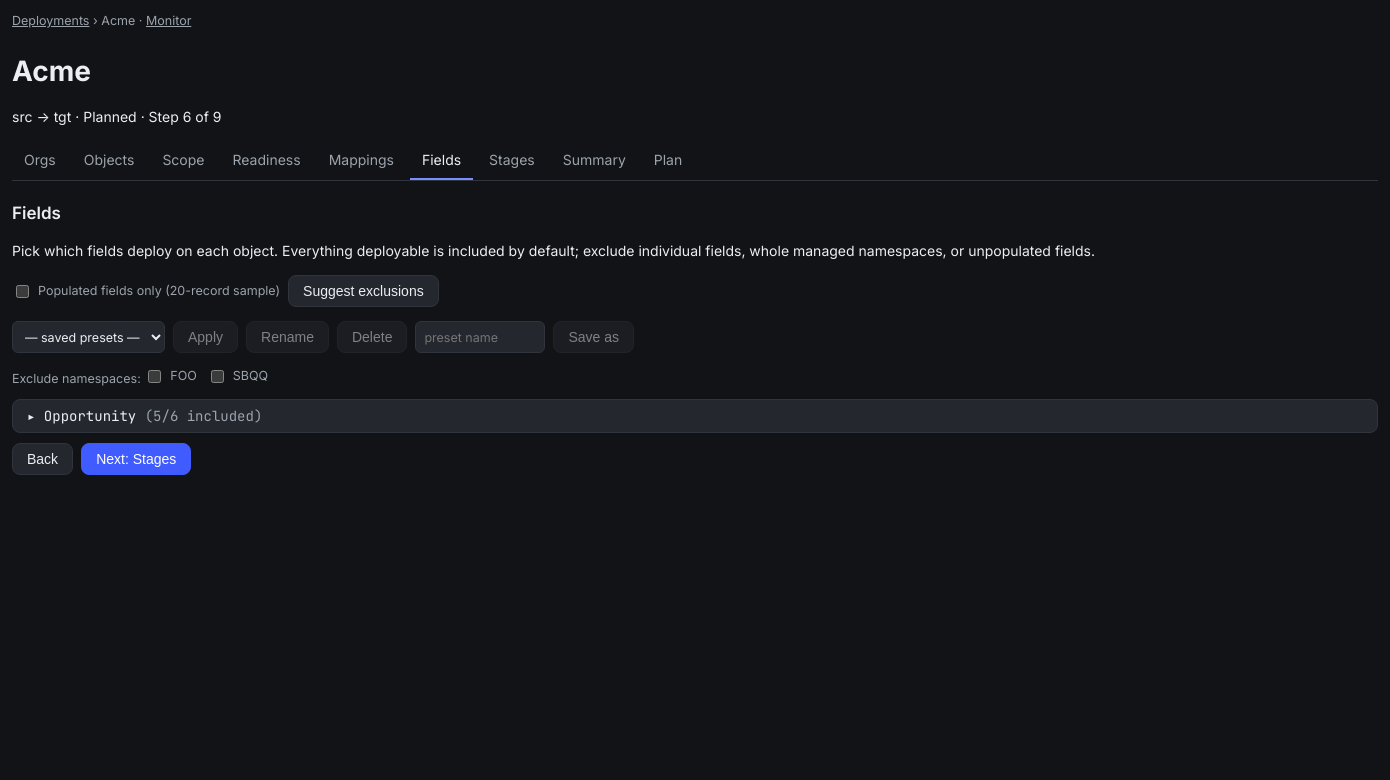
it: StepFields (5B.6) › saves and applies a fields template with scope re-validation (5B.6-b)
The image size is (1390, 780).
Check: the heading "Fields" is shown, box [12,202,61,222]
Click the button "▸ Opportunity (5/6 included)". click: (90, 416)
box: [12,399,1378,433]
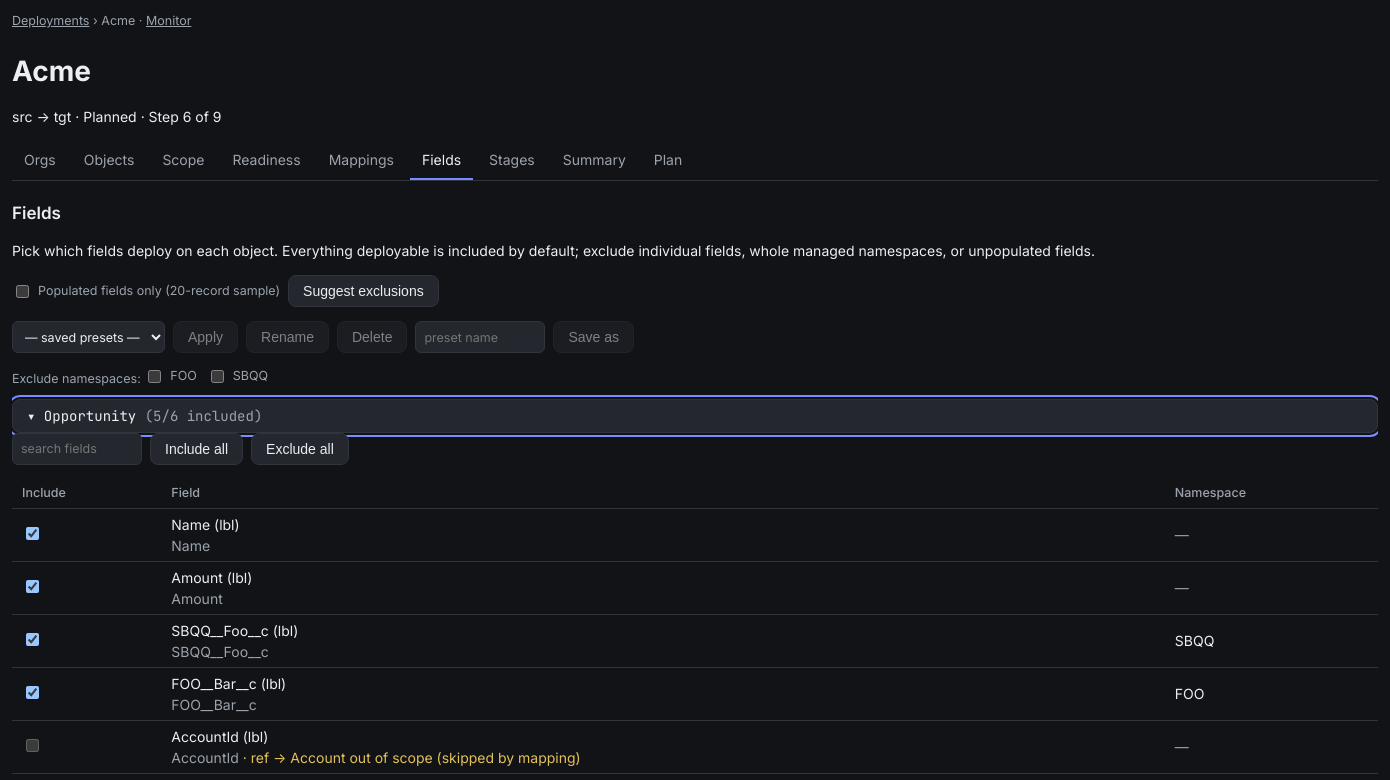
Click the checkbox named "Include Amount". click: (32, 586)
box: [26,580,39,593]
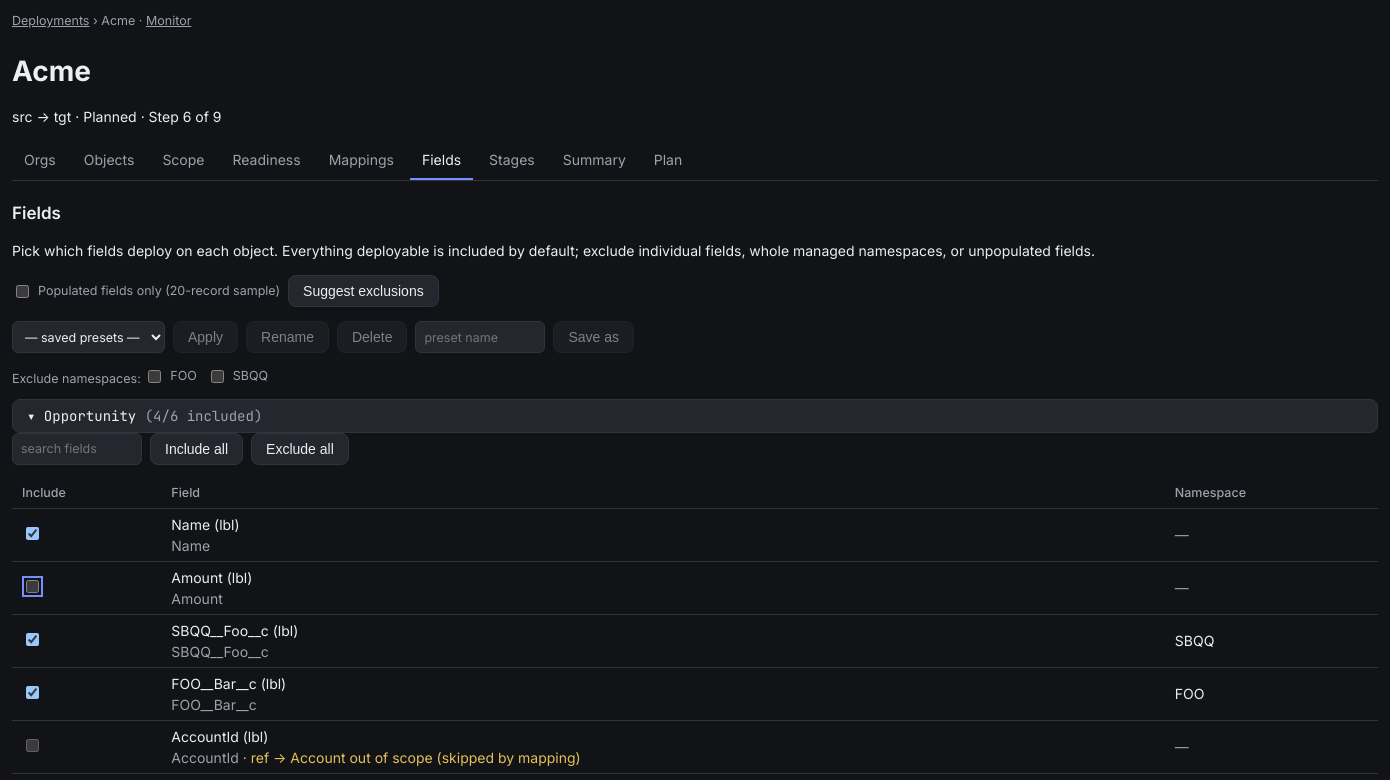
Type "cpq-slim" into the field named "Fields preset name". click: (480, 337)
box: [415,321,545,353]
Click the button "Save as". click: (594, 337)
box: [553,321,634,353]
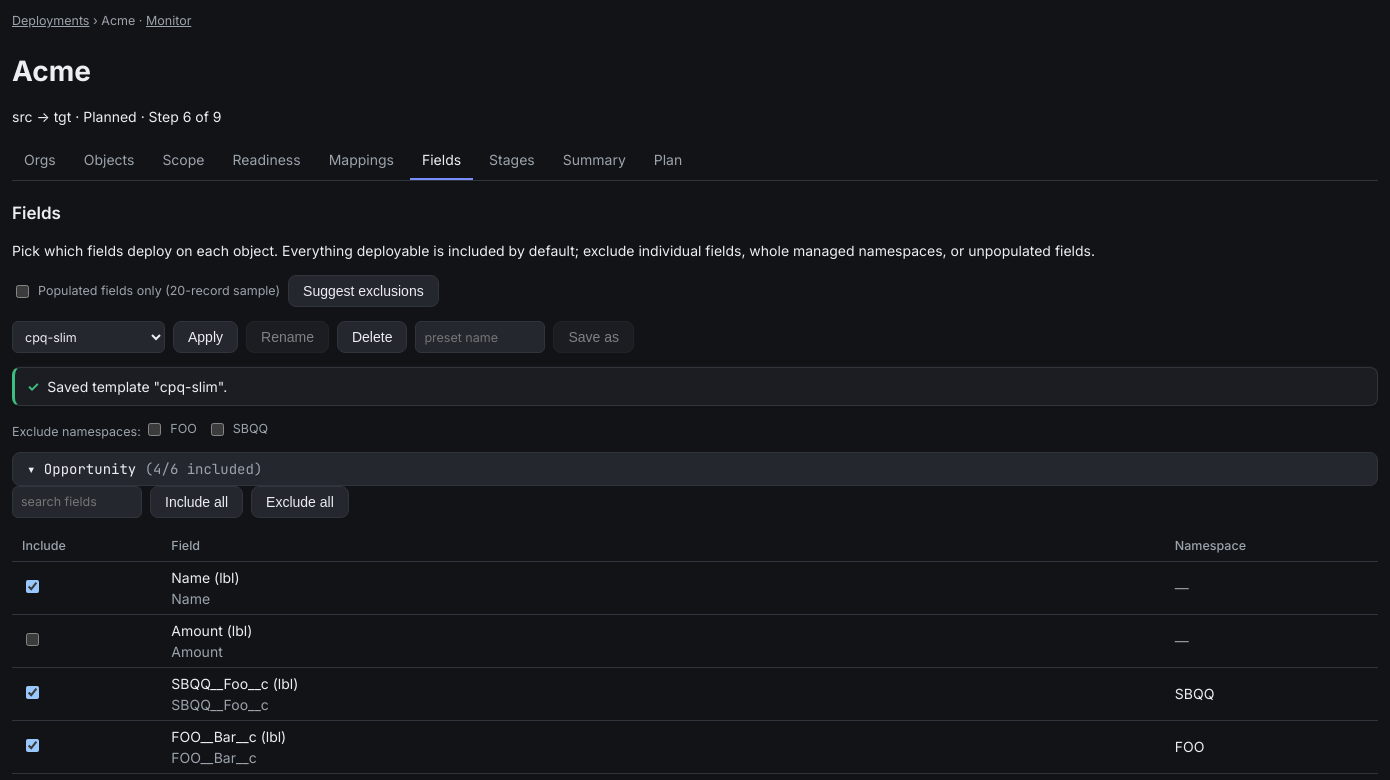
Check: the text "Saved template \"cpq-slim\"." is shown, box [47,378,227,395]
Click the button "Include all". click: (196, 502)
box: [150,486,243,518]
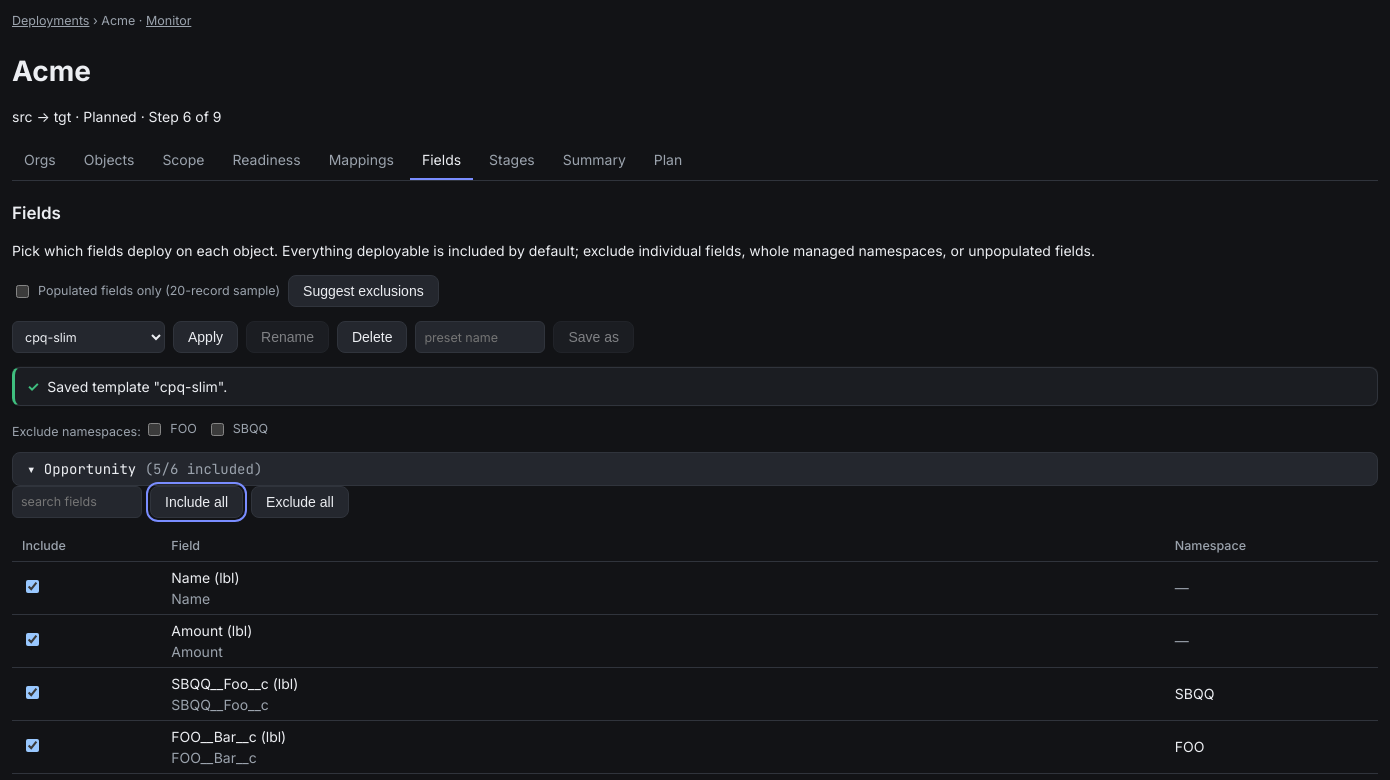
Select "cpq-slim" in the dropdown named "Saved fields preset". click: (88, 337)
box: [12,321,165,353]
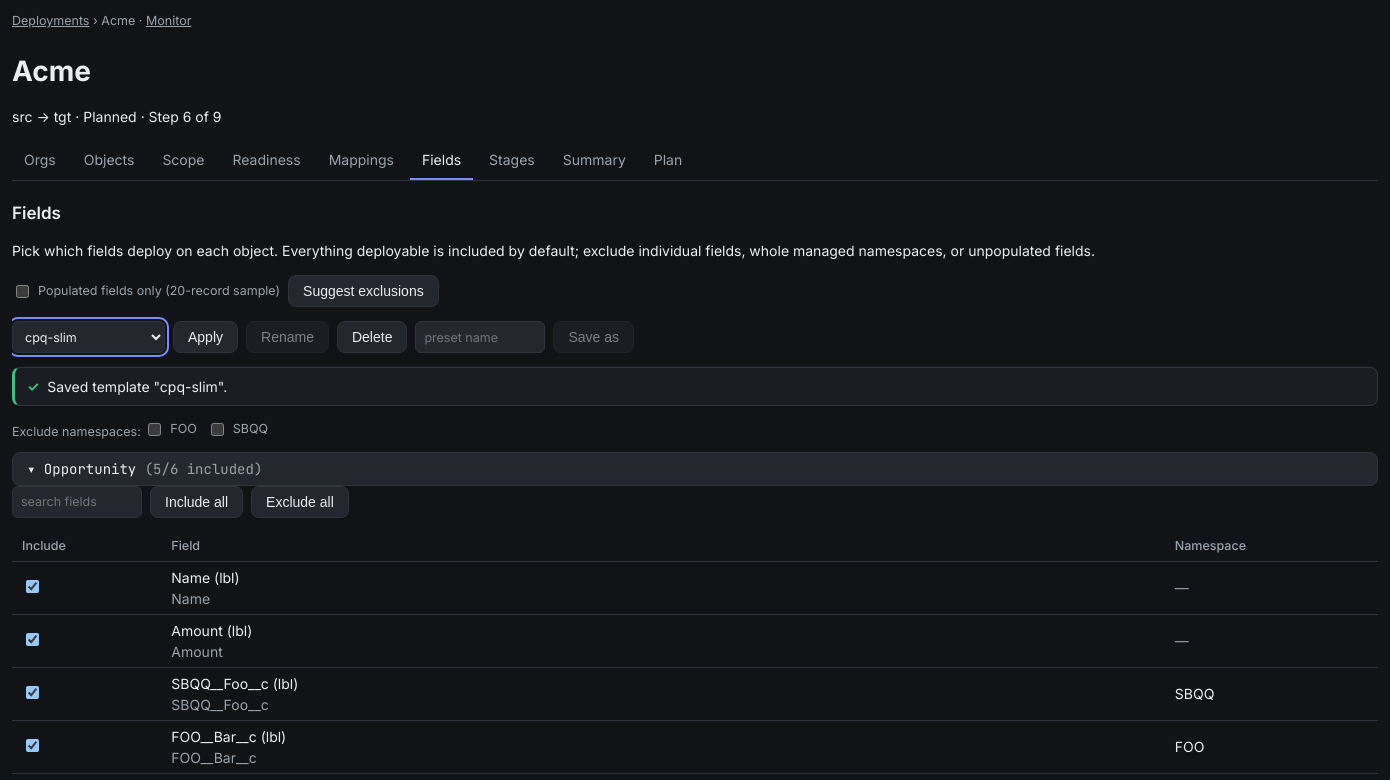
Click the button "Apply". click: (206, 337)
box: [173,321,238,353]
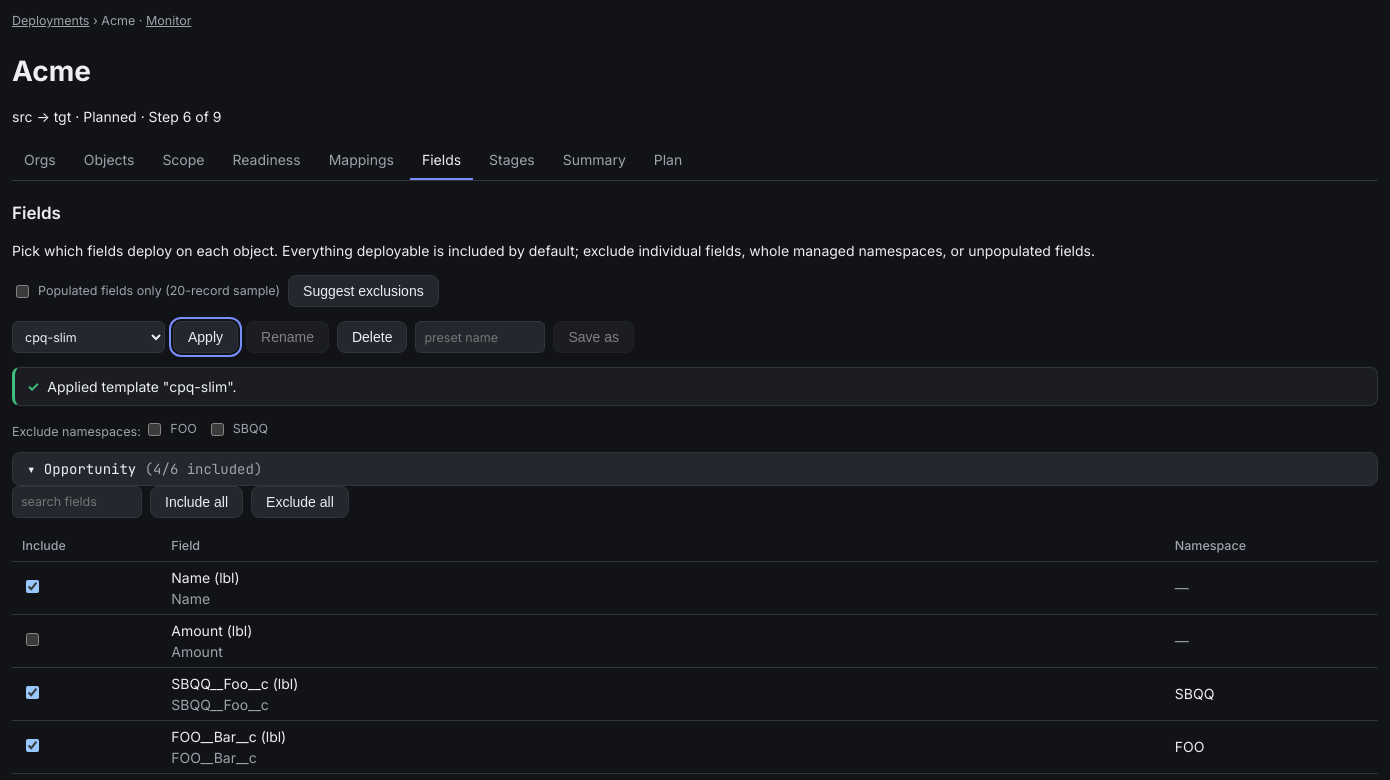
Check: the text "Applied template \"cpq-slim\"." is shown, box [47,378,237,395]
